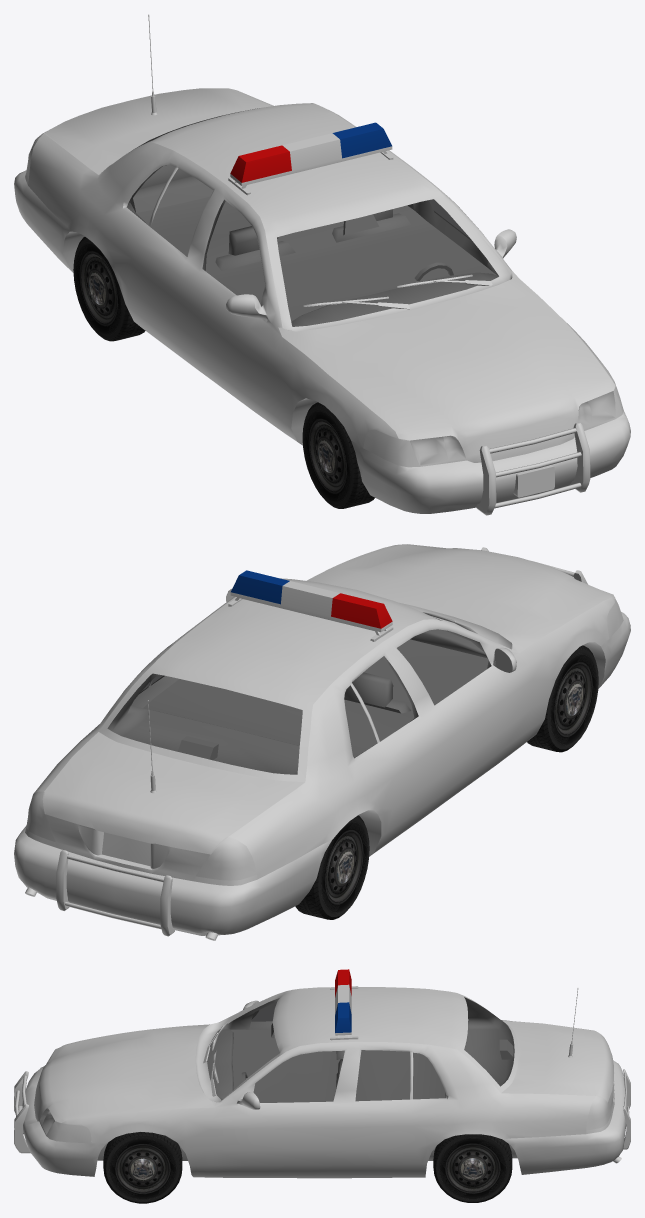
File: Police_1.FBX
The picture shows the model from 3 angles, top to bottom: view 1: azimuth 30°, elevation 25°; view 2: azimuth 150°, elevation 25°; view 3: azimuth 270°, elevation 25°; orthographic projection. The views are drawn at different scales.
Parts seen in each view (by area): view 1: Police_1_LOD0, Wheels_FR_LOD0, Wheel_RR_LOD0; view 2: Police_1_LOD0, Wheels_FR_LOD0, Wheel_RR_LOD0; view 3: Police_1_LOD0, Wheel_FL_LOD0, Wheels_RL_LOD0.
Boxes of the visible parts, x1,y1,x2,y2 form: Police_1_LOD0: [14, 14, 630, 515]; Wheels_FR_LOD0: [302, 402, 374, 508]; Wheel_RR_LOD0: [73, 237, 145, 341]; Police_1_LOD0: [14, 544, 630, 940]; Wheels_FR_LOD0: [527, 645, 598, 752]; Wheel_RR_LOD0: [295, 815, 369, 919]; Police_1_LOD0: [14, 969, 630, 1178]; Wheel_FL_LOD0: [103, 1132, 182, 1203]; Wheels_RL_LOD0: [433, 1134, 512, 1202].
Size of what is drawn, in the model's own units: 2.12 by 1.69 by 5.45.
